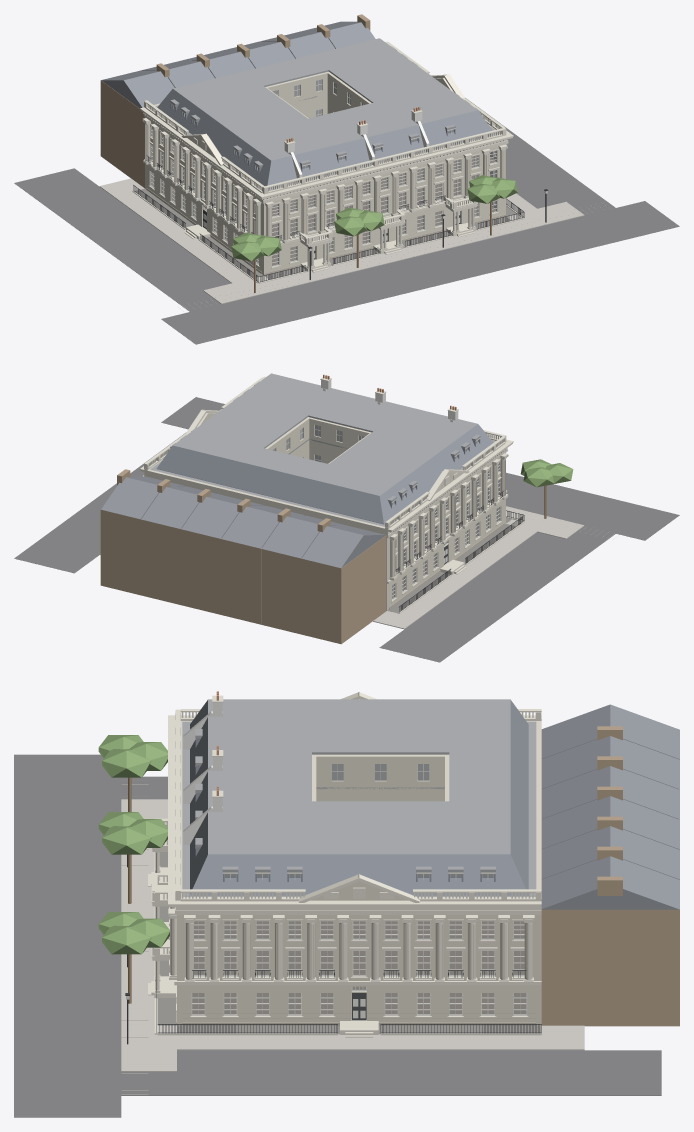
File: clay-regency-stucco-terrace-clay-v001.glb
3 views of the same model, one above another, from view 1: azimuth 30°, elevation 25°; view 2: azimuth 150°, elevation 25°; view 3: azimuth 270°, elevation 25° (orthographic). The views are drawn at different scales.
Visible parts, largest first — view 1: CLAY_ASPHALT, CLAY_STONE, CLAY_LEAD, CLAY_WALL, CLAY_PAVING, CLAY_ROOF, CLAY_NROOF, CLAY_GLASS, CLAY_JOINT, CLAY_TRIM, CLAY_NEIGHBOUR, CLAY_PLANTING (+6 smaller); view 2: CLAY_NEIGHBOUR, CLAY_ASPHALT, CLAY_LEAD, CLAY_NROOF, CLAY_WALL, CLAY_ROOF, CLAY_STONE, CLAY_PAVING, CLAY_JOINT, CLAY_TRIM, CLAY_GLASS, CLAY_HARDWARE (+3 smaller); view 3: CLAY_ASPHALT, CLAY_LEAD, CLAY_WALL, CLAY_STONE, CLAY_NROOF, CLAY_NEIGHBOUR, CLAY_ROOF, CLAY_PAVING, CLAY_GLASS, CLAY_FLOOR, CLAY_PLANTING, CLAY_TRIM (+6 smaller).
Boxes of the visible parts, bbox=[...] form: CLAY_ASPHALT: bbox=[14, 98, 679, 344]; CLAY_STONE: bbox=[132, 41, 524, 283]; CLAY_LEAD: bbox=[156, 38, 499, 190]; CLAY_WALL: bbox=[145, 71, 505, 275]; CLAY_PAVING: bbox=[99, 178, 584, 304]; CLAY_ROOF: bbox=[157, 89, 494, 188]; CLAY_NROOF: bbox=[101, 21, 375, 108]; CLAY_GLASS: bbox=[151, 79, 496, 265]; CLAY_JOINT: bbox=[145, 124, 608, 311]; CLAY_TRIM: bbox=[150, 79, 497, 266]; CLAY_NEIGHBOUR: bbox=[100, 41, 261, 188]; CLAY_PLANTING: bbox=[231, 175, 517, 261]; CLAY_NEIGHBOUR: bbox=[100, 510, 386, 644]; CLAY_ASPHALT: bbox=[14, 397, 679, 662]; CLAY_LEAD: bbox=[150, 373, 494, 526]; CLAY_NROOF: bbox=[101, 476, 385, 567]; CLAY_WALL: bbox=[145, 413, 505, 610]; CLAY_ROOF: bbox=[156, 424, 493, 524]; CLAY_STONE: bbox=[140, 376, 524, 613]; CLAY_PAVING: bbox=[99, 506, 584, 629]; CLAY_JOINT: bbox=[186, 432, 614, 576]; CLAY_TRIM: bbox=[273, 425, 500, 599]; CLAY_GLASS: bbox=[273, 425, 499, 598]; CLAY_HARDWARE: bbox=[396, 491, 524, 612]; CLAY_ASPHALT: bbox=[14, 754, 661, 1117]; CLAY_LEAD: bbox=[182, 699, 536, 896]; CLAY_WALL: bbox=[177, 699, 541, 1025]; CLAY_STONE: bbox=[148, 692, 541, 1037]; CLAY_NROOF: bbox=[541, 704, 679, 909]; CLAY_NEIGHBOUR: bbox=[541, 759, 679, 1026]; CLAY_ROOF: bbox=[190, 700, 528, 895]; CLAY_PAVING: bbox=[121, 799, 584, 1071]; CLAY_GLASS: bbox=[192, 764, 526, 1014]; CLAY_FLOOR: bbox=[192, 921, 526, 1018]; CLAY_PLANTING: bbox=[98, 735, 169, 954]; CLAY_TRIM: bbox=[191, 738, 527, 1018].
Bounding box in the file's own units: 80 × 18.67 × 62.1.
